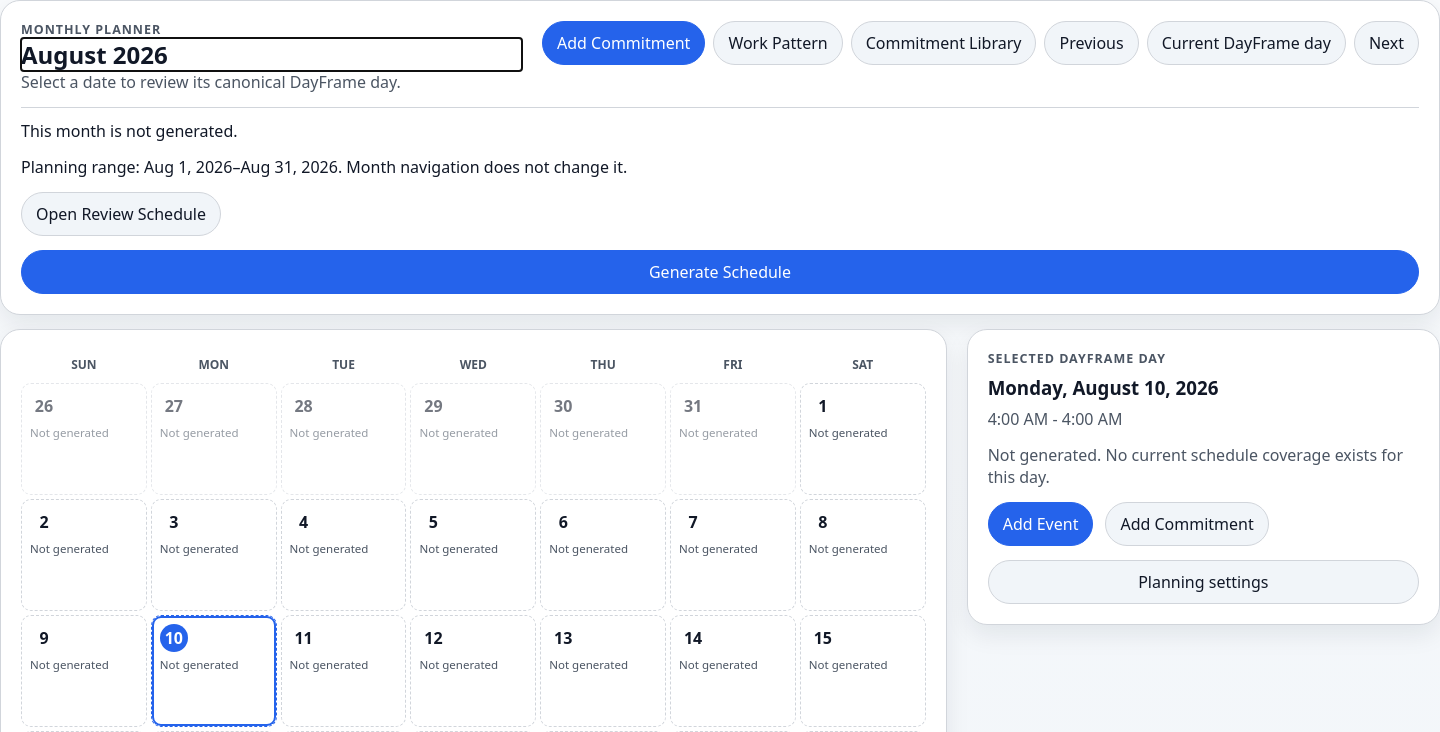
MonthlyPlannerSurface › navigates months, adjacent cells, and current DayFrame day without writes
The width and height of the screenshot is (1440, 732).
Click the button with aria-label "Next month": (1386, 43) [1354, 21, 1419, 65]
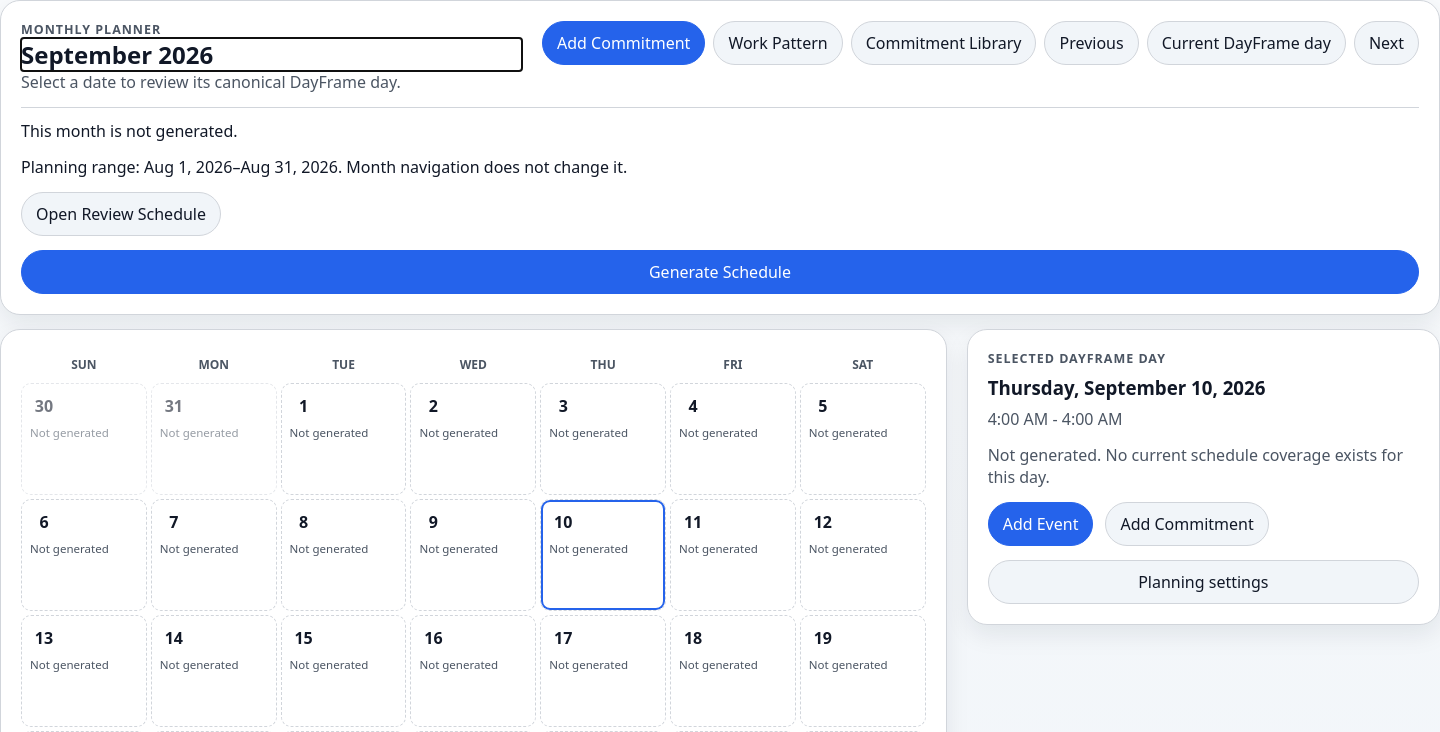
expect the heading "September 2026" is shown: met, box [21, 38, 213, 71]
Click the button with aria-label "Previous month": (1092, 43) [1044, 21, 1139, 65]
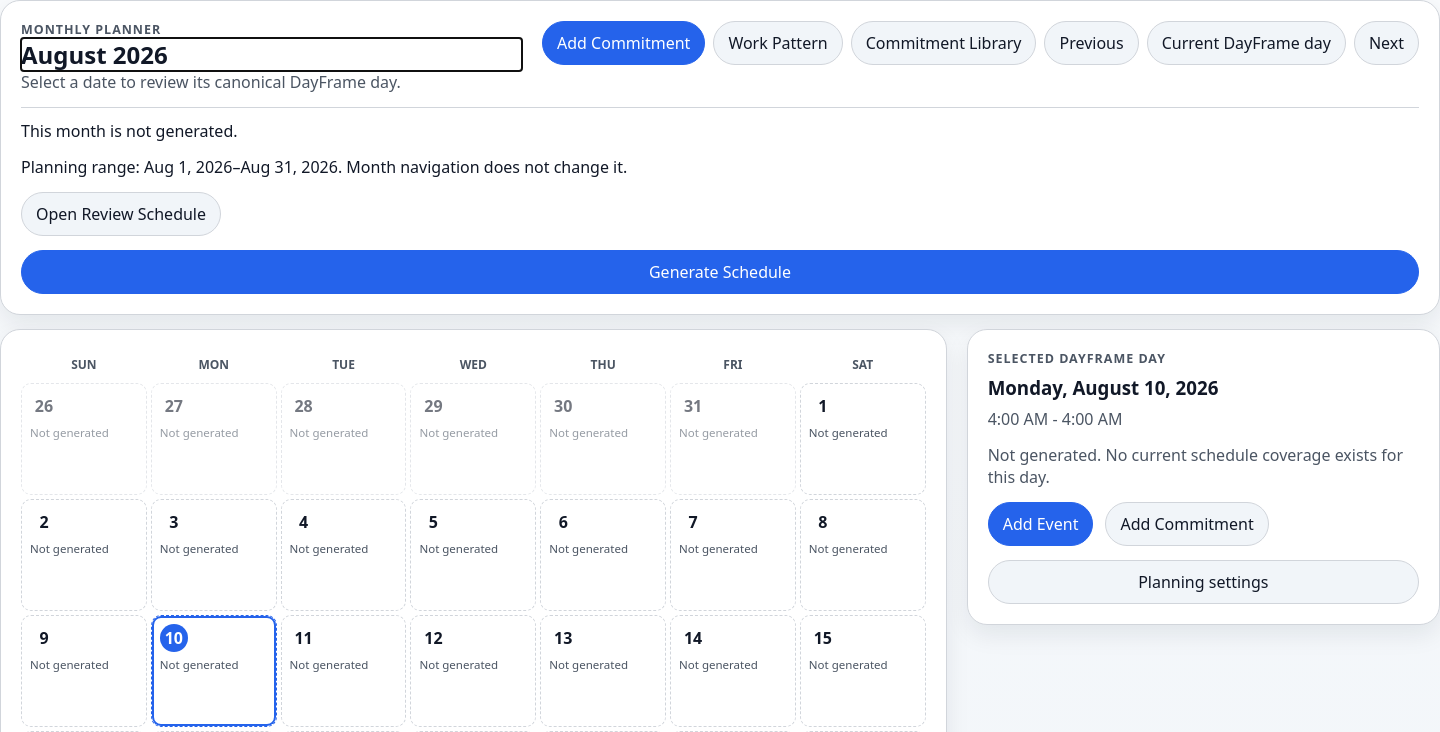
Click the cell named "Sunday, July 26": (84, 439) [21, 383, 147, 495]
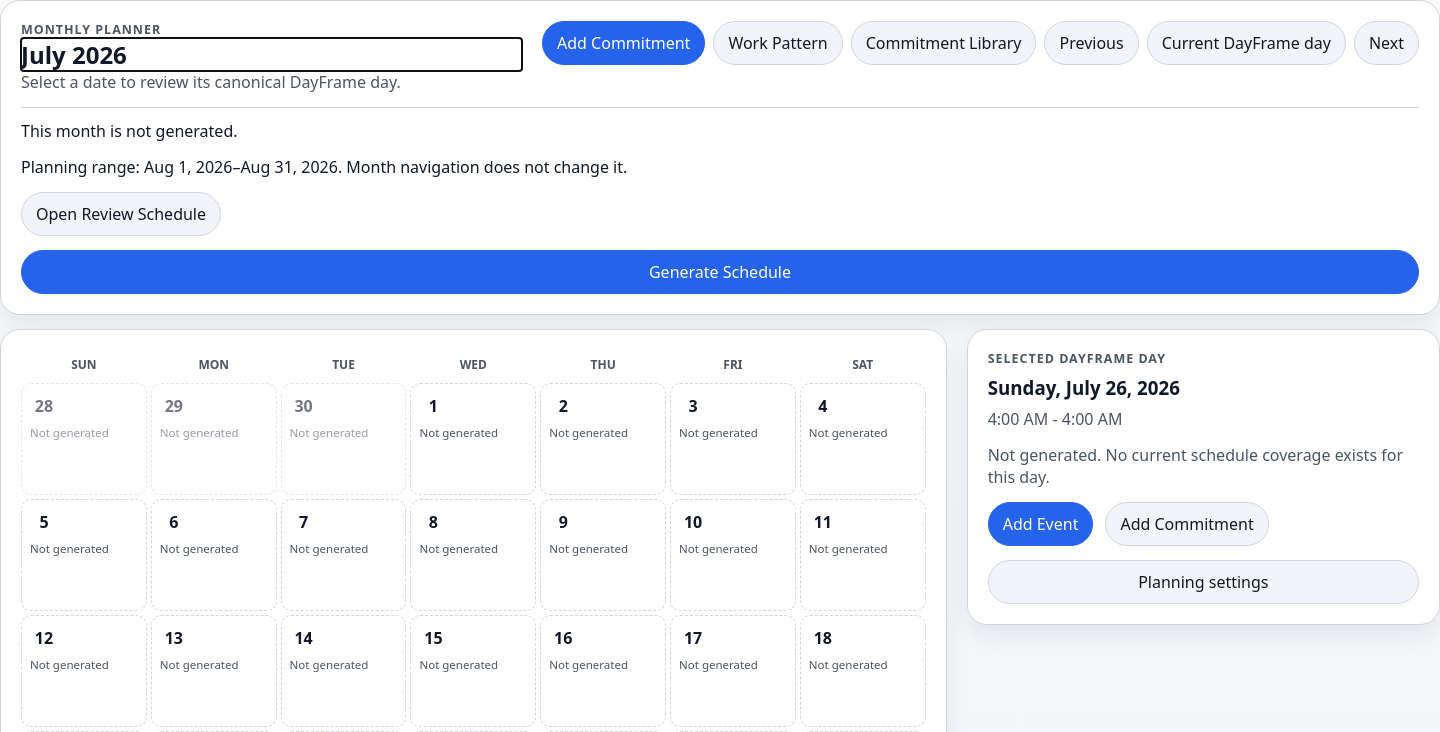
expect the heading "July 2026" is shown: met, box [21, 38, 127, 71]
Click the button "Current DayFrame day": (1246, 43) [1147, 21, 1346, 65]
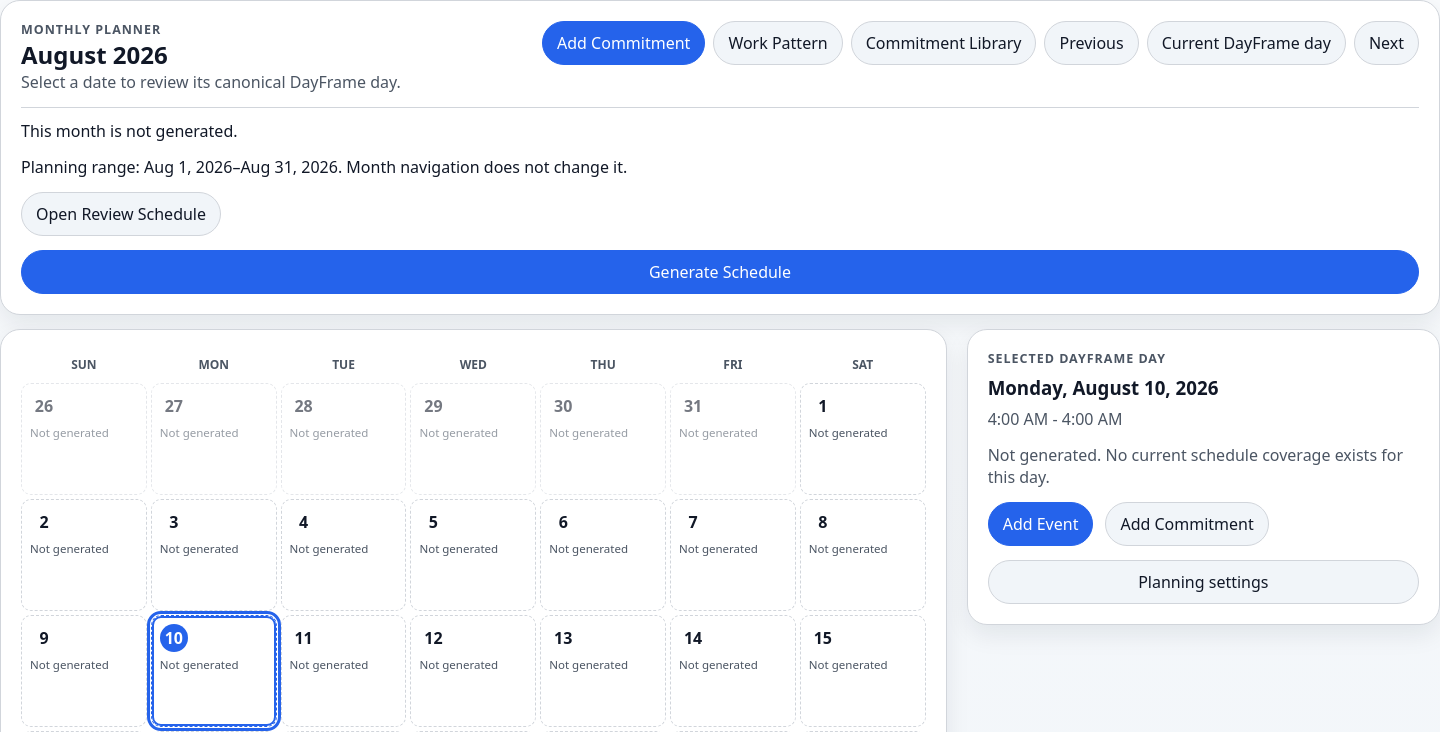
expect the heading "August 2026" is shown: met, box [21, 38, 168, 71]
